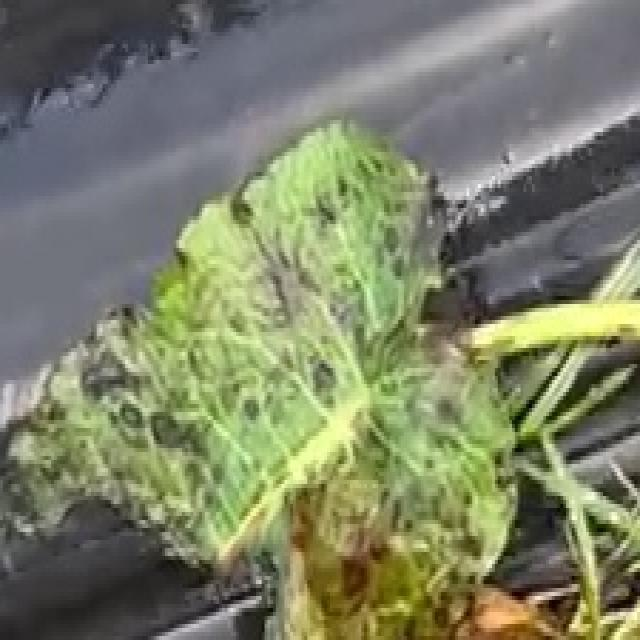organic waste: (34, 156, 563, 640)
